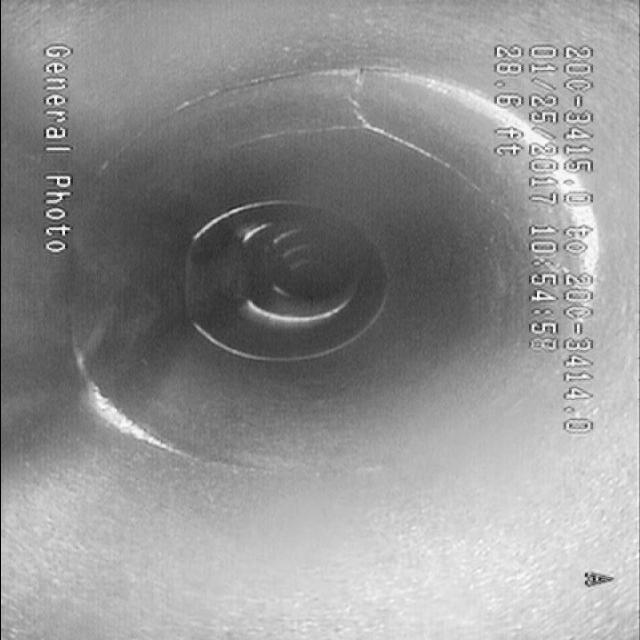Crack: (319, 79, 497, 213)
